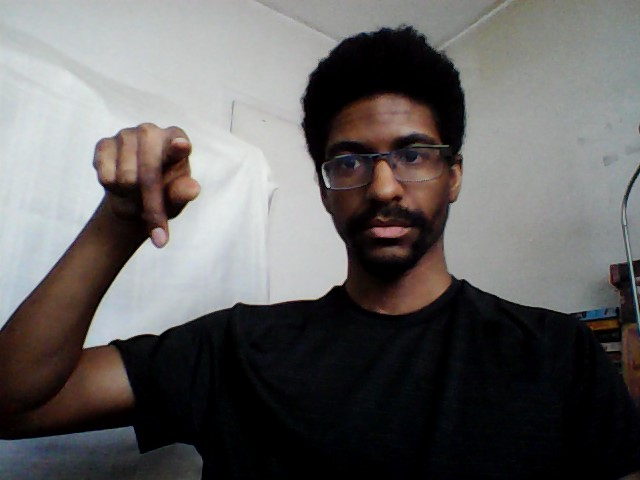p: (88, 118, 206, 251)
